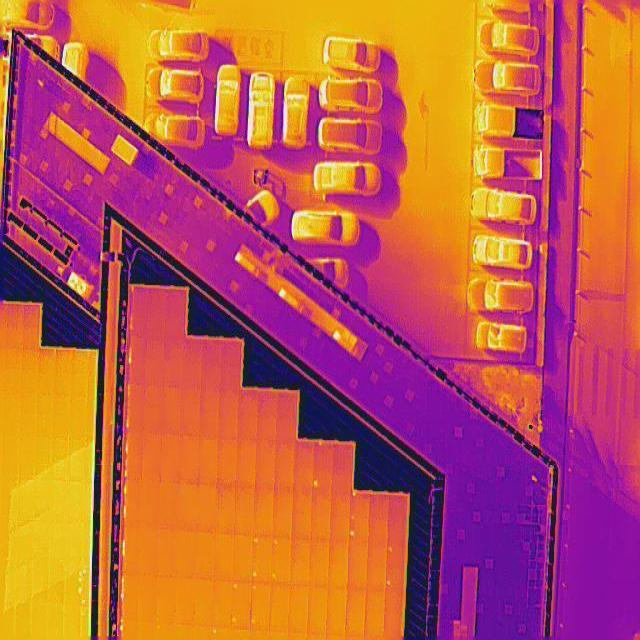Cell-Multi: (250, 535, 272, 583), (250, 582, 272, 630), (312, 442, 333, 488), (349, 494, 370, 538), (386, 540, 405, 588), (272, 538, 292, 582), (232, 580, 250, 628), (65, 569, 83, 606)
No-Anomaly: (141, 432, 163, 483), (310, 490, 332, 539), (238, 389, 259, 440), (201, 340, 222, 390), (200, 388, 221, 438), (219, 390, 240, 440), (257, 391, 278, 441), (138, 526, 158, 578), (234, 486, 255, 535), (165, 335, 185, 386), (275, 442, 297, 488), (161, 436, 182, 484), (199, 437, 220, 485), (215, 485, 236, 533), (365, 588, 386, 636), (146, 336, 165, 389), (178, 482, 198, 532), (273, 488, 293, 538), (330, 489, 350, 539), (292, 488, 311, 540), (146, 289, 167, 336), (197, 484, 218, 531), (270, 584, 291, 631), (181, 388, 201, 437), (254, 486, 274, 535), (346, 586, 366, 635), (164, 291, 186, 335), (331, 445, 353, 489), (139, 482, 161, 526), (309, 538, 330, 584), (277, 392, 297, 440), (196, 532, 216, 580), (232, 535, 252, 583), (308, 584, 328, 632), (384, 587, 404, 635), (160, 482, 179, 532), (368, 539, 387, 589), (196, 578, 215, 628), (289, 584, 309, 631), (164, 386, 183, 435), (256, 442, 277, 486), (157, 532, 178, 576), (222, 342, 242, 388), (177, 532, 197, 578), (214, 534, 234, 580), (327, 588, 347, 634), (183, 339, 201, 390), (349, 540, 368, 588), (176, 577, 195, 625), (237, 440, 257, 485), (53, 433, 71, 482), (220, 440, 240, 484), (369, 495, 389, 539), (127, 384, 146, 430), (35, 434, 54, 480), (294, 442, 313, 488), (330, 539, 349, 585), (182, 436, 200, 484), (145, 387, 164, 432), (139, 575, 158, 620), (19, 434, 37, 481), (388, 496, 407, 540), (291, 538, 310, 582), (158, 576, 176, 622), (214, 580, 232, 626), (131, 288, 148, 336), (6, 304, 24, 348), (22, 348, 40, 392), (23, 305, 40, 349), (72, 392, 89, 436), (5, 434, 21, 480), (56, 351, 73, 394), (70, 437, 86, 482), (39, 350, 56, 392), (55, 393, 72, 435), (5, 391, 21, 435), (73, 352, 90, 392), (6, 349, 22, 391), (22, 393, 38, 435), (39, 391, 54, 435), (63, 605, 80, 640), (49, 567, 64, 605), (31, 605, 47, 640)
Unclassified: (126, 431, 145, 480), (129, 338, 147, 383), (123, 480, 141, 525), (123, 525, 139, 574), (123, 575, 139, 620)
